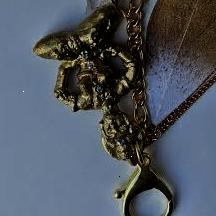golden_tara_of_agusan: (32, 2, 145, 170)
